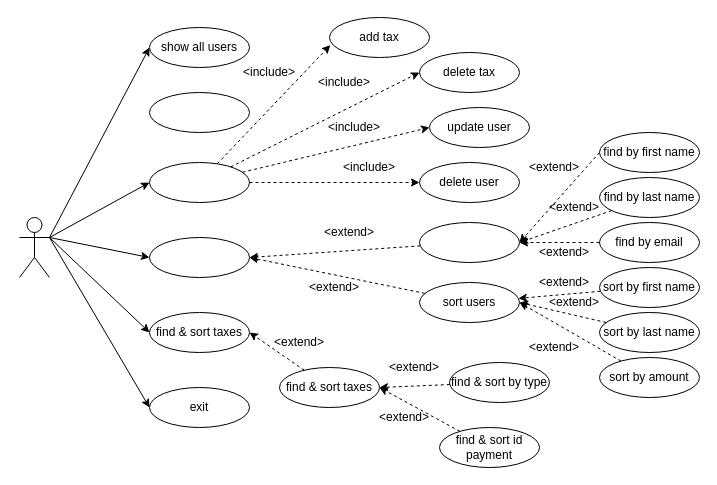
Image size: 717x485. Some labels were removed from this diagram. The centre of each missing label's shape, as x and y in pixels:
"add user" goes at [199,112].
"Admin" goes at [34,247].
"find & sort users" goes at [199,257].
"find users" goes at [469,242].
"get user" goes at [199,182].
